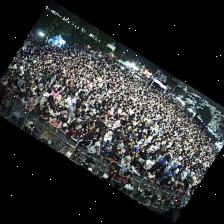person: (72, 136, 92, 154), (139, 158, 155, 176), (132, 141, 147, 156), (138, 149, 152, 164), (160, 168, 175, 181), (66, 125, 79, 140), (100, 132, 113, 146), (107, 150, 121, 163), (158, 155, 170, 168), (122, 148, 135, 160), (88, 143, 100, 156), (49, 116, 61, 128), (120, 156, 131, 169), (39, 108, 50, 121), (129, 160, 139, 174), (146, 170, 155, 184), (89, 127, 99, 139), (66, 94, 75, 107), (49, 100, 59, 111), (80, 123, 89, 135), (112, 144, 124, 153), (14, 88, 23, 100), (39, 95, 48, 107), (100, 145, 108, 158), (30, 93, 38, 106), (117, 130, 127, 140), (160, 177, 170, 187), (95, 117, 104, 128), (65, 113, 74, 124), (93, 135, 102, 146), (164, 163, 173, 174), (67, 103, 75, 115), (49, 107, 57, 119), (22, 94, 29, 107), (51, 87, 58, 100), (107, 141, 113, 156), (180, 170, 188, 181), (83, 110, 91, 121), (175, 183, 184, 192), (113, 139, 123, 147), (180, 186, 190, 194), (58, 111, 65, 122), (60, 123, 67, 133), (58, 96, 64, 107), (77, 119, 83, 130), (112, 121, 119, 130), (104, 177, 113, 184)
